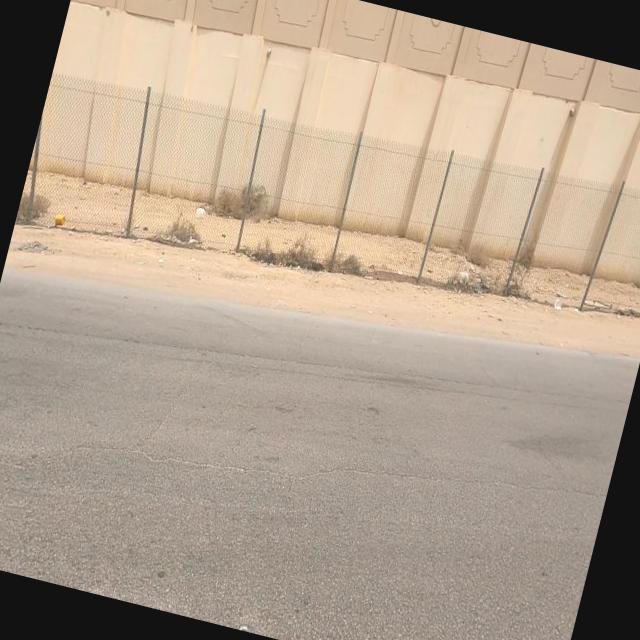debris: (27, 174, 96, 260), (422, 242, 488, 324), (136, 206, 212, 271), (526, 266, 590, 341), (166, 182, 229, 248)
